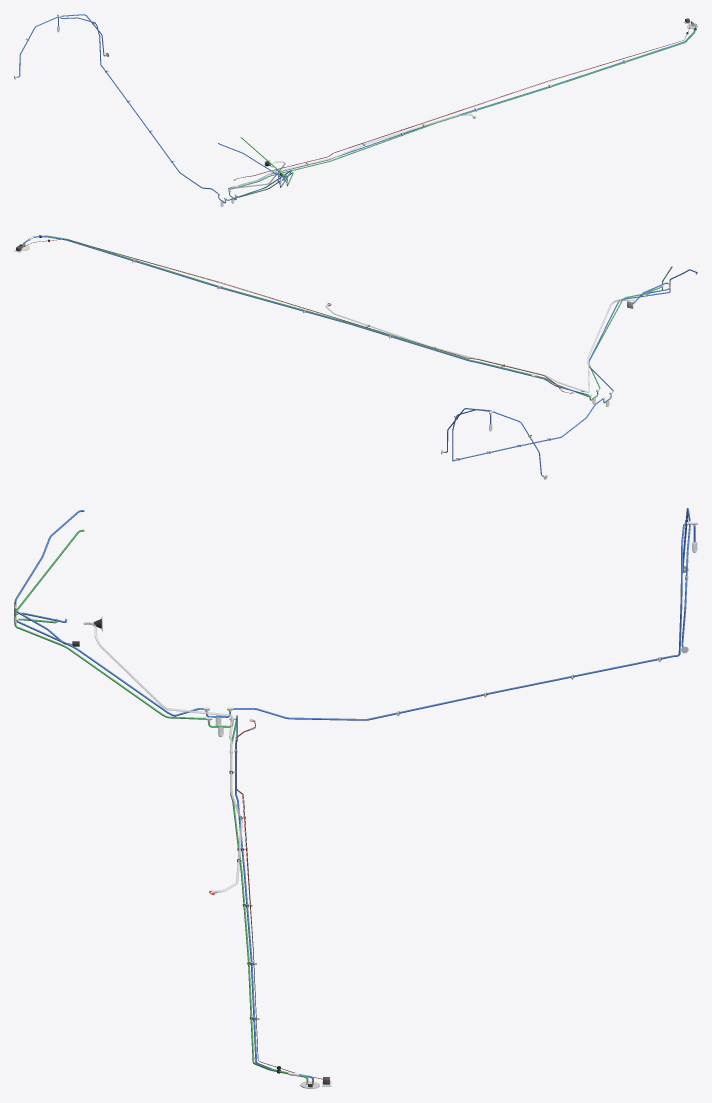
Rendered from da40-pitot-static.glb.
The picture shows the model from 3 angles, top to bottom: view 1: azimuth 30°, elevation 25°; view 2: azimuth 150°, elevation 25°; view 3: azimuth 270°, elevation 25°; orthographic projection. The views are drawn at different scales.
Visible parts, largest first — view 1: Pitot hose (green) probe to LH seat, Probe static hose (blue) to LH seat, Stall warning hose (10 mm transparent), Pitot heat wire -, Pitot heat wire +, Static hose (blue) top loop to LH seat; view 2: Probe static hose (blue) to LH seat, Pitot hose (green) probe to LH seat, Stall warning hose (10 mm transparent), Pitot heat wire -, Pitot heat wire +, Static hose (blue) top loop to LH seat; view 3: Static hose (blue) top loop to LH seat, Stall warning hose (10 mm transparent), Pitot hose (green) probe to LH seat, Probe static hose (blue) to LH seat.
Boxes of the visible parts, left/top/right/bottom form: Pitot hose (green) probe to LH seat: left=229, top=23, right=696, bottom=189; Probe static hose (blue) to LH seat: left=228, top=21, right=695, bottom=188; Stall warning hose (10 mm transparent): left=231, top=114, right=472, bottom=188; Pitot heat wire -: left=235, top=28, right=689, bottom=180; Pitot heat wire +: left=233, top=21, right=689, bottom=180; Static hose (blue) top loop to LH seat: left=60, top=17, right=212, bottom=189; Probe static hose (blue) to LH seat: left=22, top=236, right=588, bottom=395; Pitot hose (green) probe to LH seat: left=24, top=235, right=588, bottom=397; Stall warning hose (10 mm transparent): left=325, top=299, right=635, bottom=392; Pitot heat wire -: left=24, top=239, right=572, bottom=393; Pitot heat wire +: left=22, top=239, right=574, bottom=393; Static hose (blue) top loop to LH seat: left=452, top=402, right=597, bottom=461; Static hose (blue) top loop to LH seat: left=251, top=522, right=686, bottom=720; Stall warning hose (10 mm transparent): left=83, top=622, right=246, bottom=892; Pitot hose (green) probe to LH seat: left=229, top=719, right=308, bottom=1081; Probe static hose (blue) to LH seat: left=234, top=715, right=313, bottom=1081.
Bounding box in the file's own units: 5.07 × 0.852 × 2.93.
